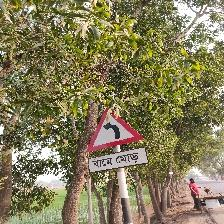Left-Turn: (85, 107, 149, 173)
